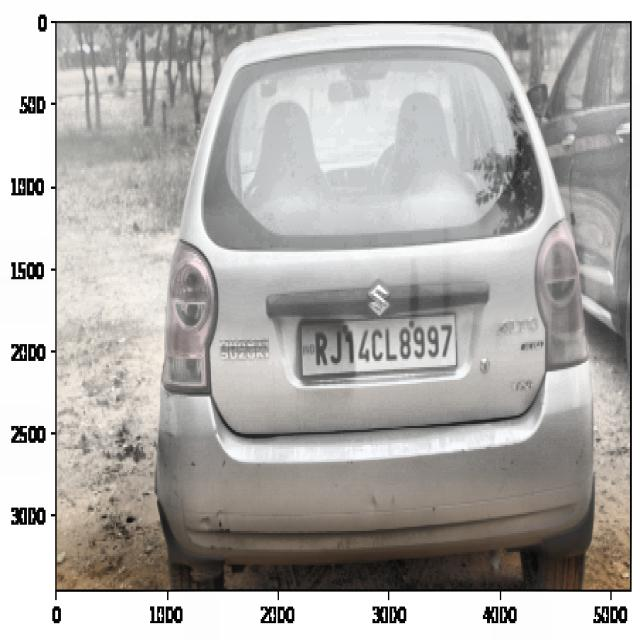license_plate: (306, 313, 456, 376)
